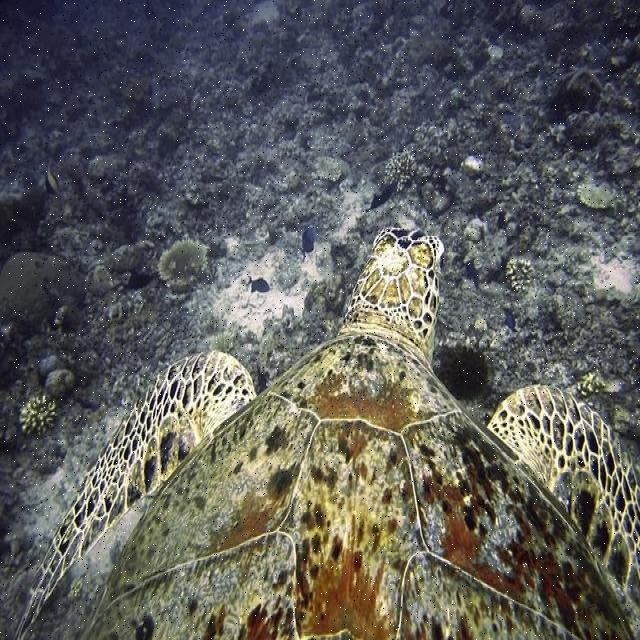fish: (14, 226, 639, 639), (300, 228, 315, 259), (246, 275, 269, 293)
reefs: (158, 231, 210, 292), (577, 172, 628, 210), (19, 389, 59, 436), (383, 147, 416, 194), (505, 255, 537, 294)
